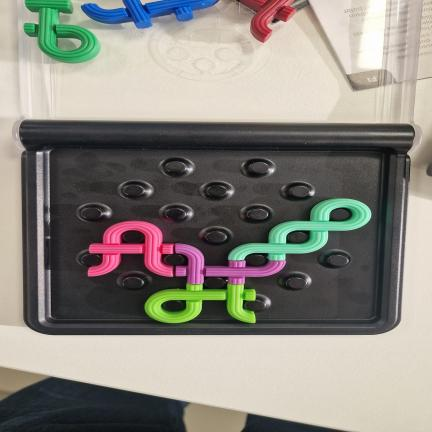F_Teal: (228, 199, 371, 261)
G_Pink: (88, 221, 173, 276)
H_Purple: (175, 244, 285, 284)
K_YellowGreen: (145, 284, 255, 323)
board: (19, 120, 414, 335)
hinge: (7, 121, 432, 148)
pin: (205, 230, 227, 244), (165, 207, 186, 221), (248, 161, 270, 174), (123, 184, 145, 197), (80, 207, 102, 220), (330, 208, 352, 221), (327, 254, 349, 267), (122, 276, 144, 289), (162, 300, 185, 312), (165, 161, 186, 174), (289, 185, 310, 198), (163, 254, 185, 266), (245, 254, 267, 266), (285, 277, 307, 289), (206, 185, 227, 197), (247, 208, 268, 220), (122, 231, 143, 243), (205, 277, 226, 289), (288, 231, 308, 243), (81, 254, 101, 266), (246, 300, 266, 311)
